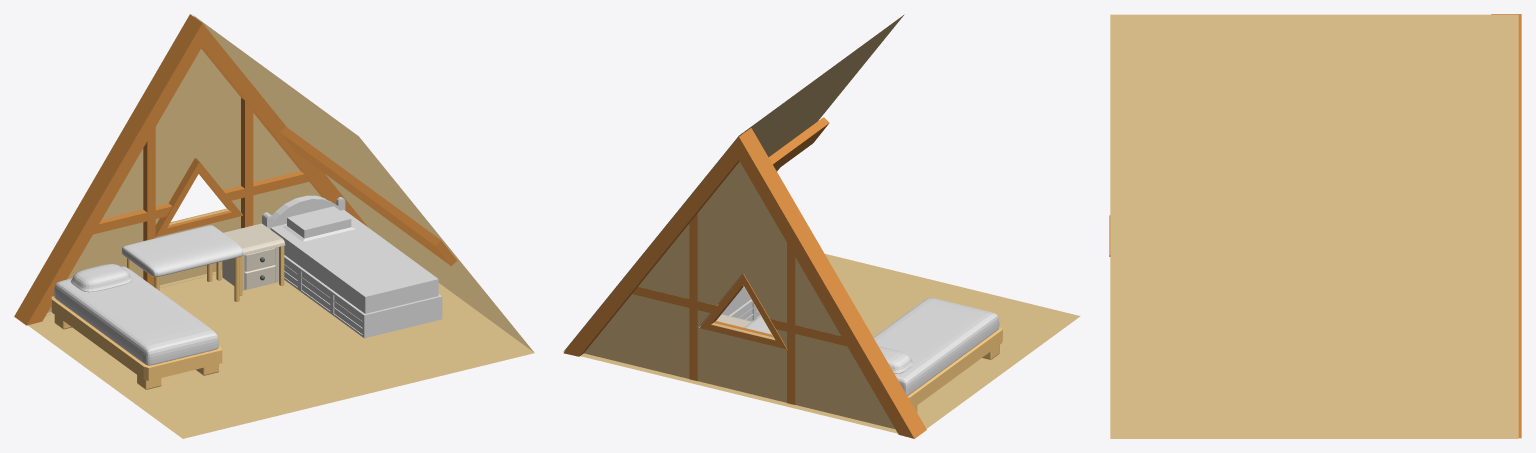
The model's file is House.glb.
3 renders of one model, left to right at view 1: azimuth 30°, elevation 25°; view 2: azimuth 150°, elevation 25°; view 3: azimuth 270°, elevation 25°, orthographic. The views are drawn at different scales.
Parts seen in each view (by area): view 1: Cube, Cube.001, Cube.012, Cube.013, Cube.009, Cube.008, Cube.002, Sphere.001, Cube.003, Cube.014, Cube.005, Cube.004 (+3 smaller); view 2: Cube, Cube.001, Cube.012, Cube.003, Cube.005, Cube.004, Cube.002, Cube.007, Cube.006; view 3: Cube, Cube.001.
Part boxes in pixels (x1=…): Cube: x1=28, y1=15, x2=534, y2=438; Cube.001: x1=14, y1=14, x2=367, y2=325; Cube.012: x1=51, y1=264, x2=222, y2=389; Cube.013: x1=270, y1=210, x2=438, y2=313; Cube.009: x1=121, y1=225, x2=243, y2=301; Cube.008: x1=284, y1=255, x2=442, y2=338; Cube.002: x1=280, y1=126, x2=457, y2=266; Sphere.001: x1=216, y1=223, x2=285, y2=295; Cube.003: x1=155, y1=158, x2=242, y2=236; Cube.014: x1=282, y1=206, x2=355, y2=241; Cube.005: x1=241, y1=98, x2=253, y2=228; Cube.004: x1=143, y1=127, x2=155, y2=286; Cube: x1=563, y1=14, x2=1080, y2=433; Cube.001: x1=563, y1=128, x2=926, y2=438; Cube.012: x1=873, y1=297, x2=1002, y2=412; Cube.003: x1=700, y1=274, x2=787, y2=349; Cube.005: x1=689, y1=213, x2=697, y2=381; Cube.004: x1=787, y1=243, x2=795, y2=404; Cube.002: x1=769, y1=117, x2=829, y2=170; Cube.007: x1=632, y1=286, x2=718, y2=313; Cube.006: x1=770, y1=319, x2=847, y2=346; Cube: x1=1110, y1=14, x2=1518, y2=438; Cube.001: x1=1491, y1=14, x2=1521, y2=438.
Bounding box in the file's own units: 9.88 × 6.95 × 8.14.
